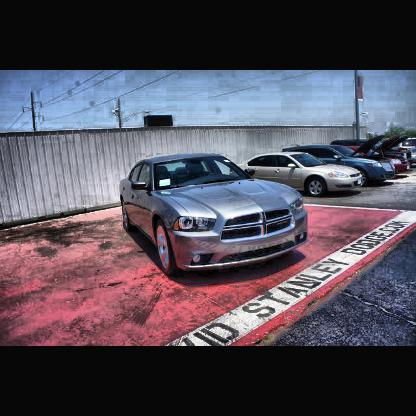Dodge Charger Sedan 2012: (120, 150, 311, 280)
